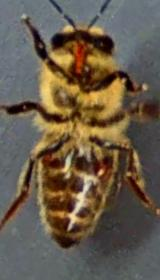varroa_mite: (87, 152, 118, 182)
